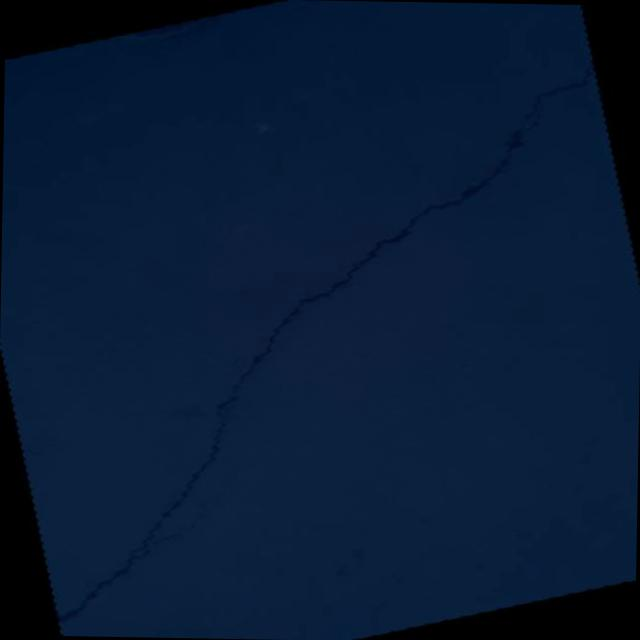crack: (0, 50, 640, 633)
